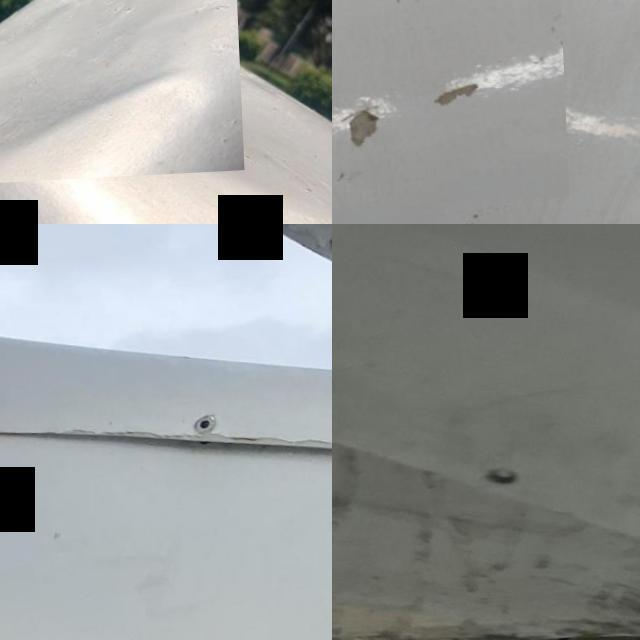Crack: (332, 0, 566, 213)
Dent: (0, 0, 239, 188)
Missing_Fastener: (482, 468, 520, 495), (188, 418, 220, 438)
